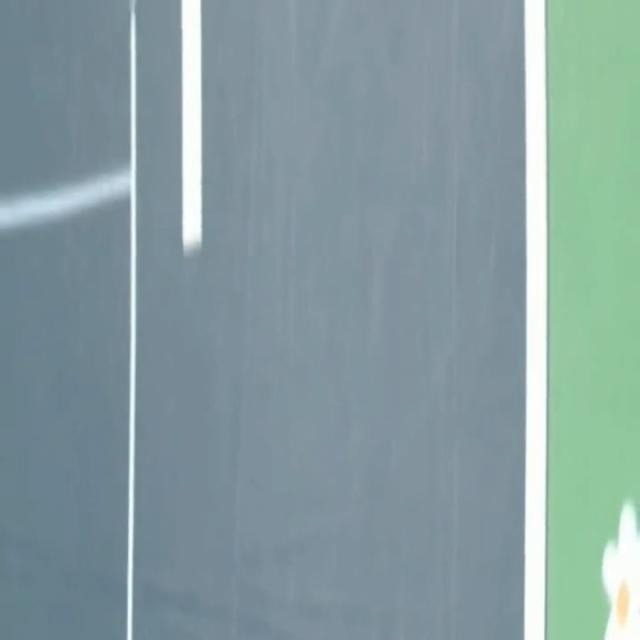center: (181, 0, 202, 255)
right: (524, 0, 546, 639)
